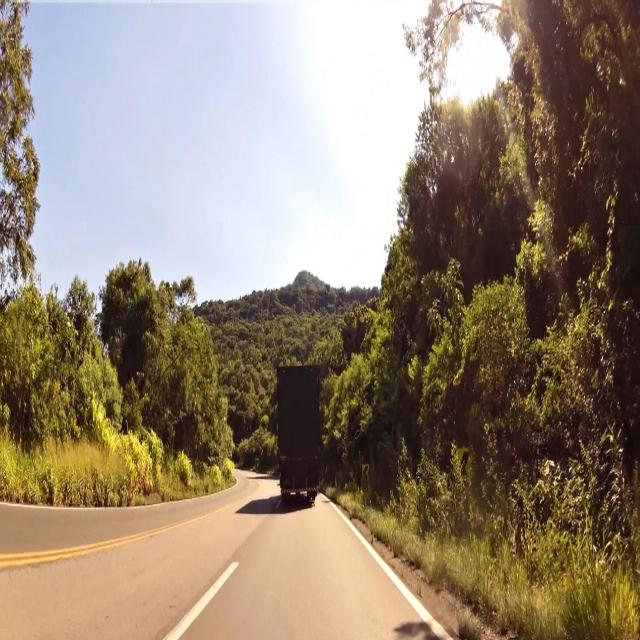Del: (454, 444, 474, 488), (362, 460, 370, 485)
